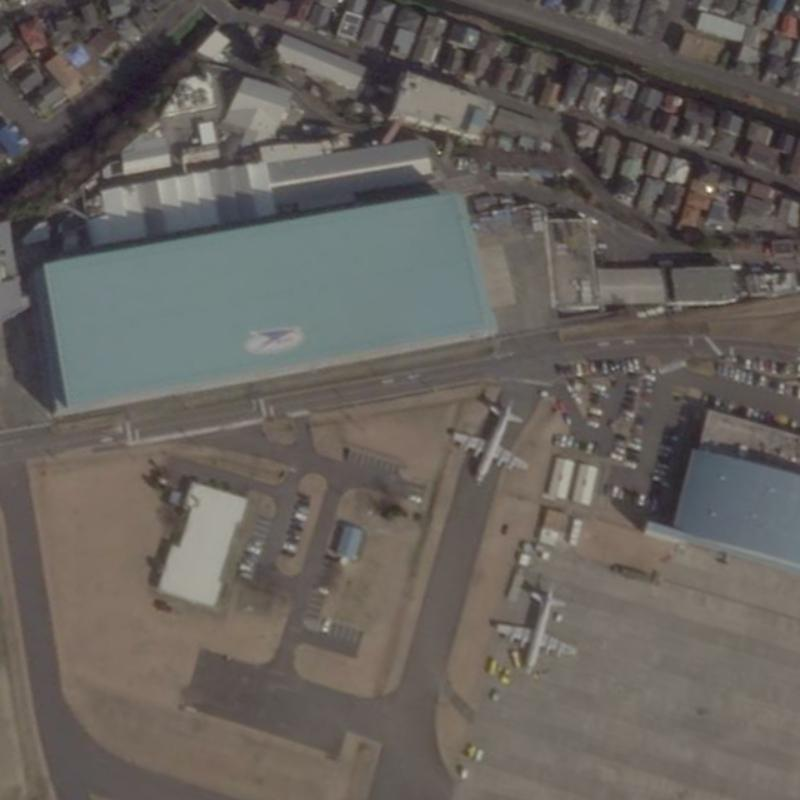A9: (489, 577, 580, 674), (443, 391, 531, 486)
